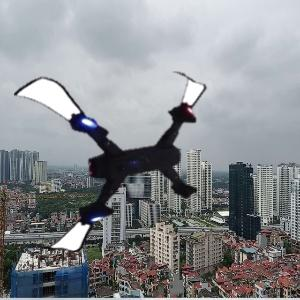drone: (12, 67, 212, 267)
